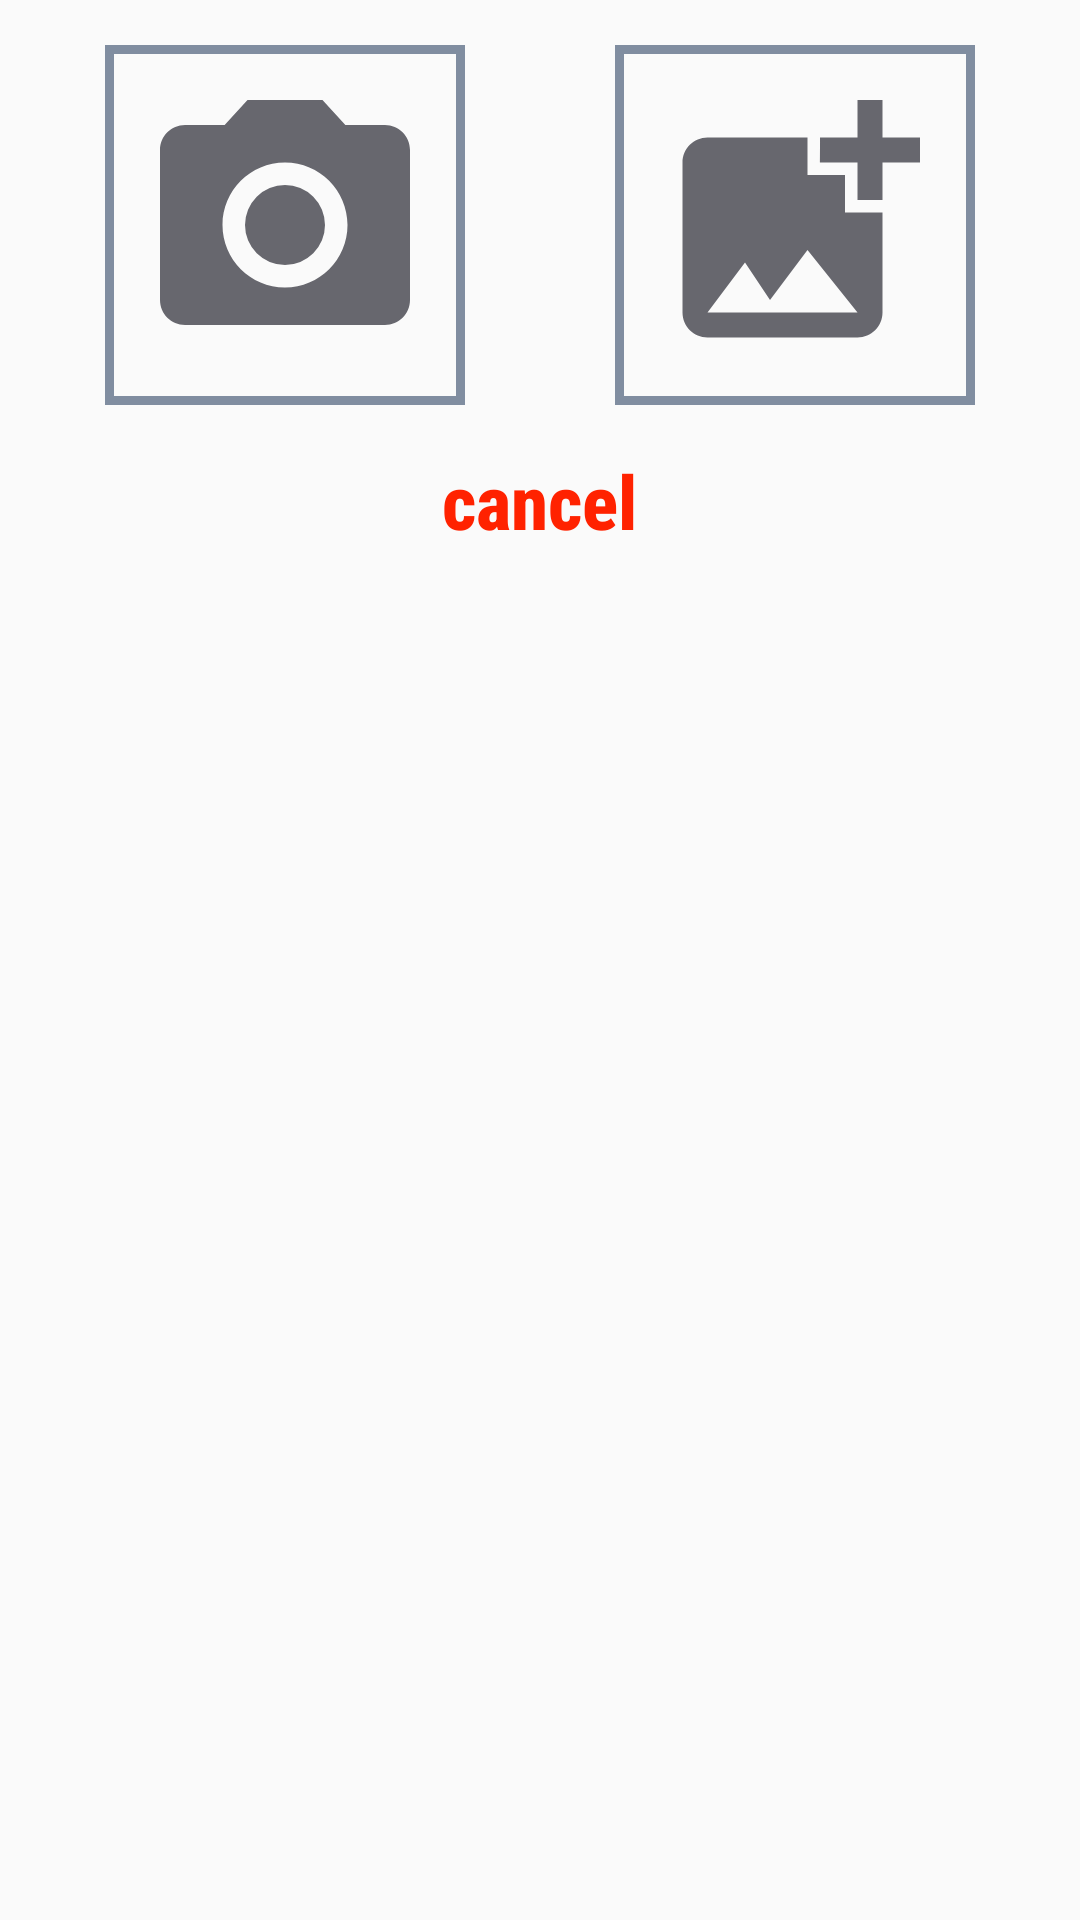

Icons on this 1080 x 1920 Android screen, each with the point to tap as (x,y):
add photo alternate: (801,219)
camera: (285,212)
